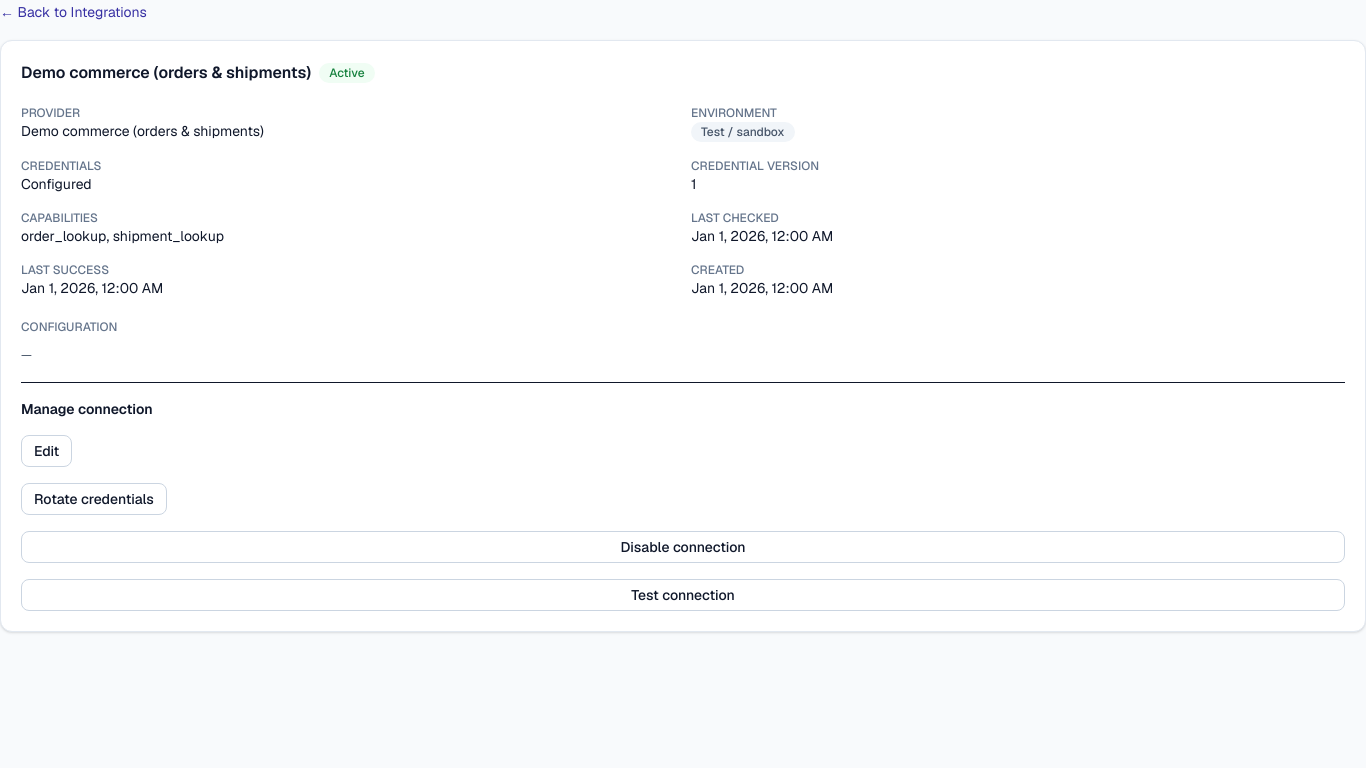
ManageConnectionControls (Phase 22 Chunk 3) › requires confirmation before disabling, and shows the real server-confirmed status afterward
Expected: the heading "Demo commerce (orders & shipments)" is shown, [21,61,311,85]
Step 1. Click the button "Disable connection" → (683, 547), box [21,531,1345,563]
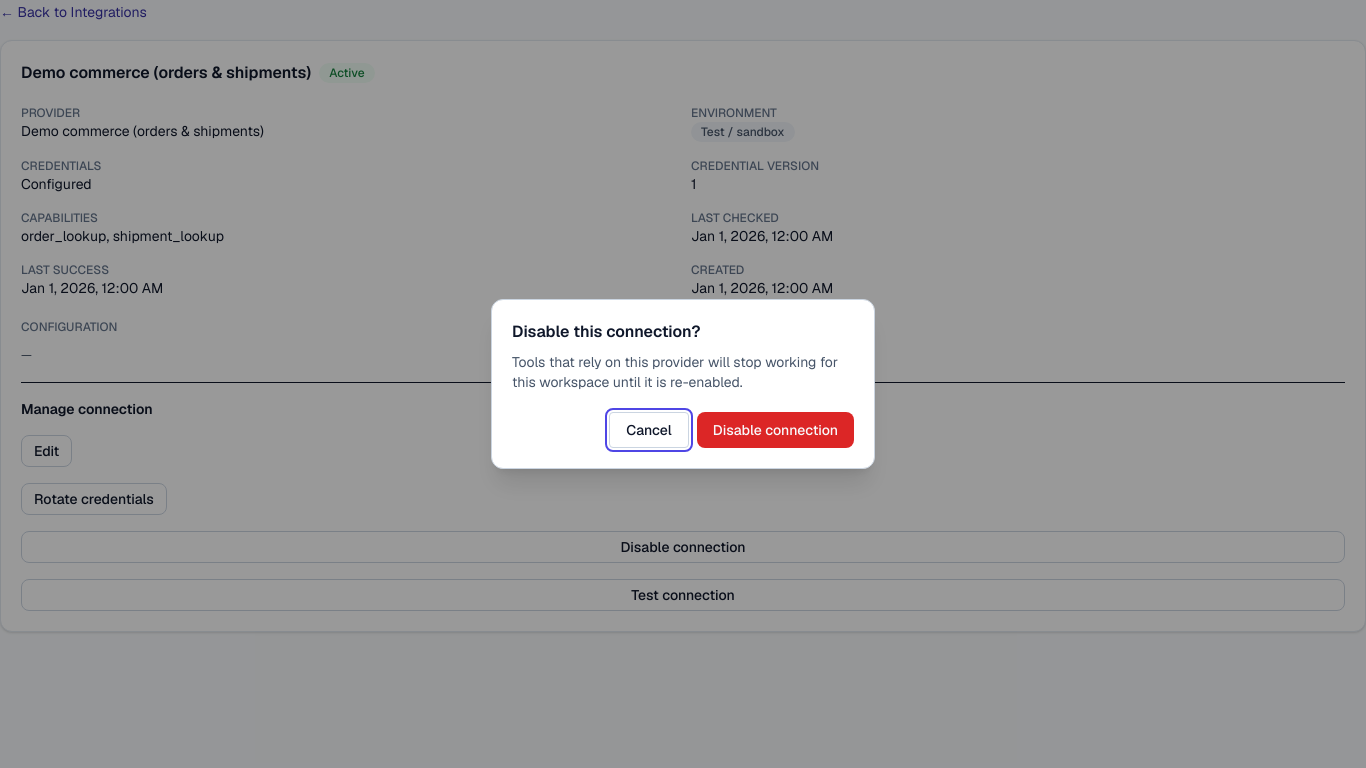
Step 2. Click the button "Disable connection" → (775, 430), box [697,412,854,448]
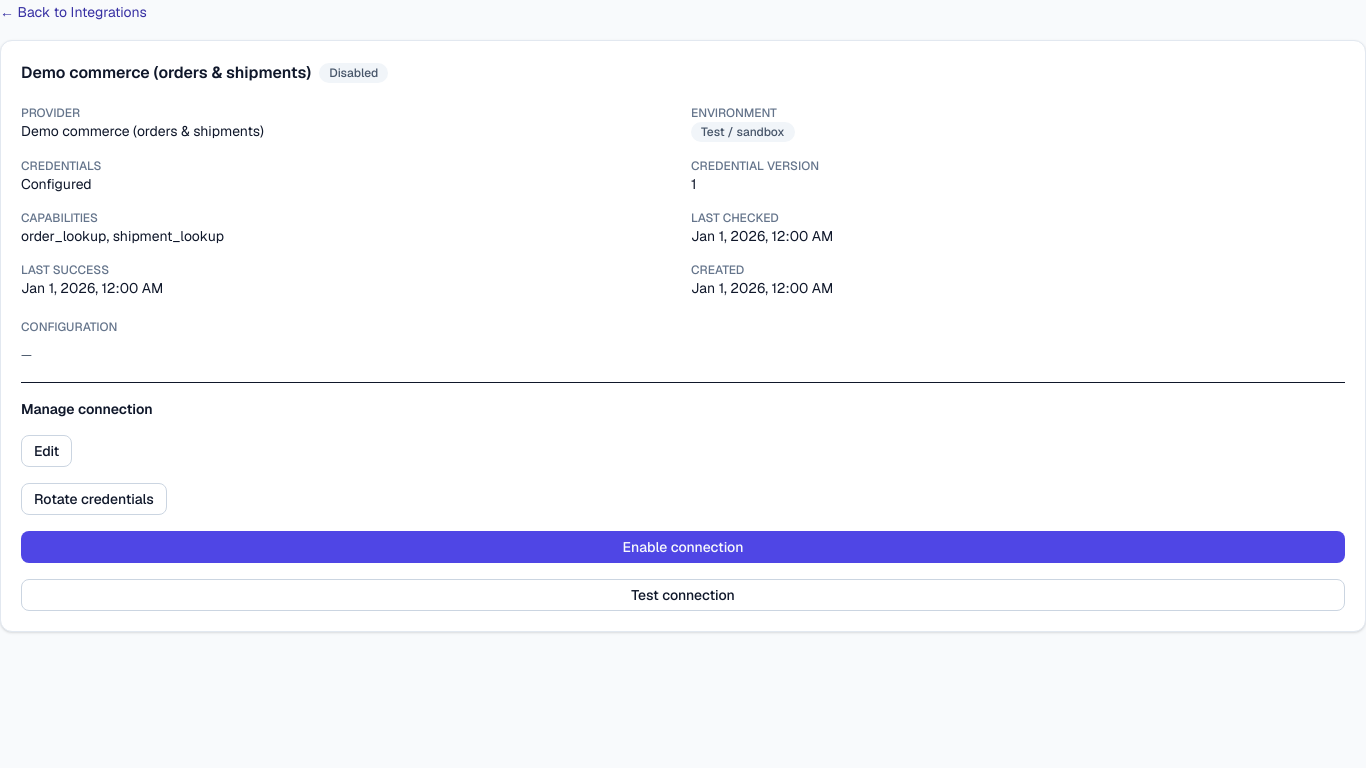
Expected: the dialog is gone
Expected: the button "Enable connection" is shown, [21,531,1345,563]
